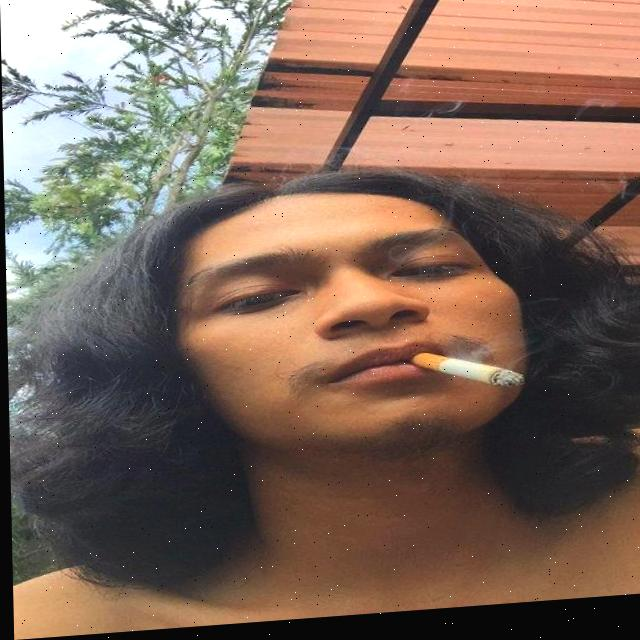cigarette: (412, 354, 522, 401)
